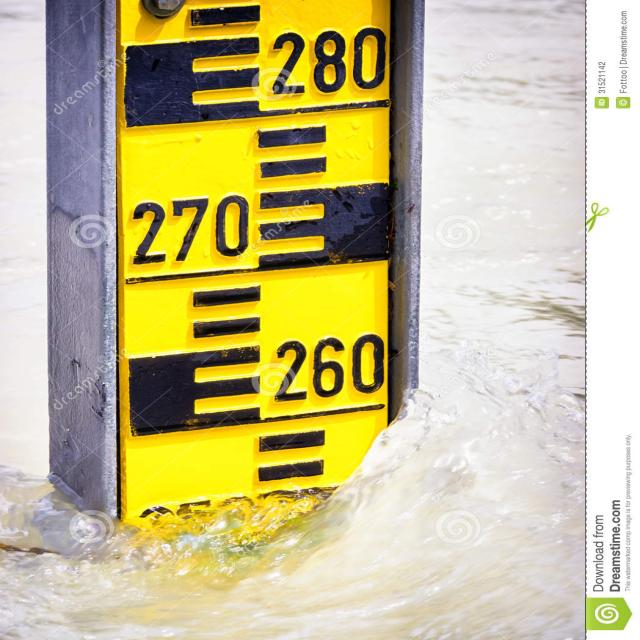ruler: (81, 3, 427, 529)
value: (121, 187, 265, 273), (260, 19, 399, 102), (264, 322, 398, 405)
